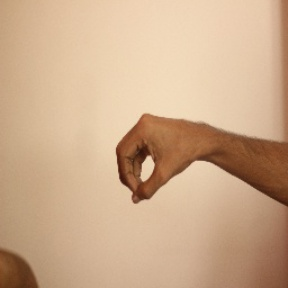O: (110, 108, 204, 206)
